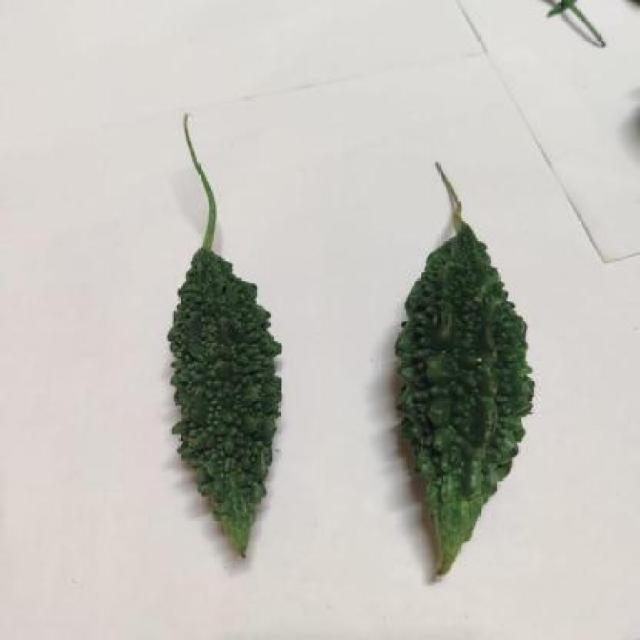Bitter melon: (163, 112, 289, 574), (394, 213, 536, 570)
